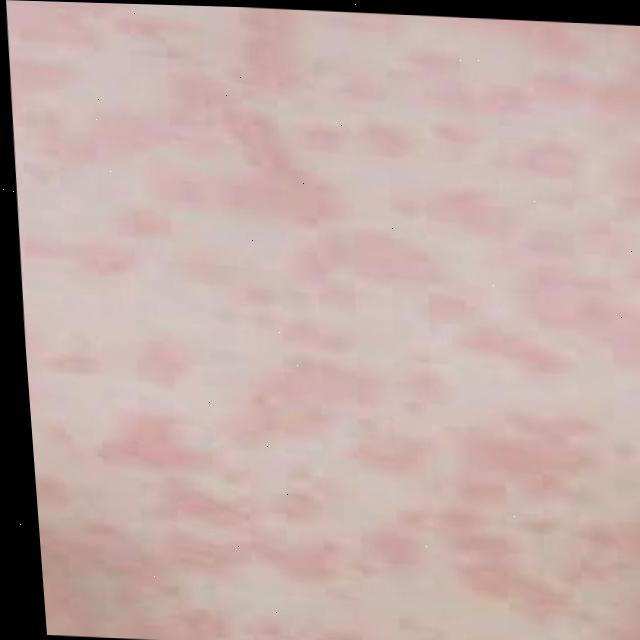Eczema: (9, 0, 640, 640)
